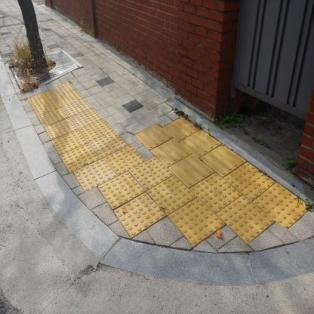Podoctatil: (25, 78, 314, 249)
